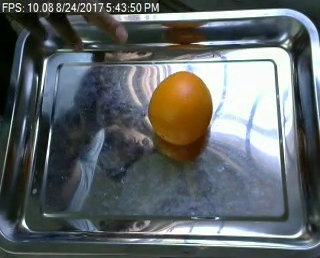Orange: (148, 72, 214, 145)
